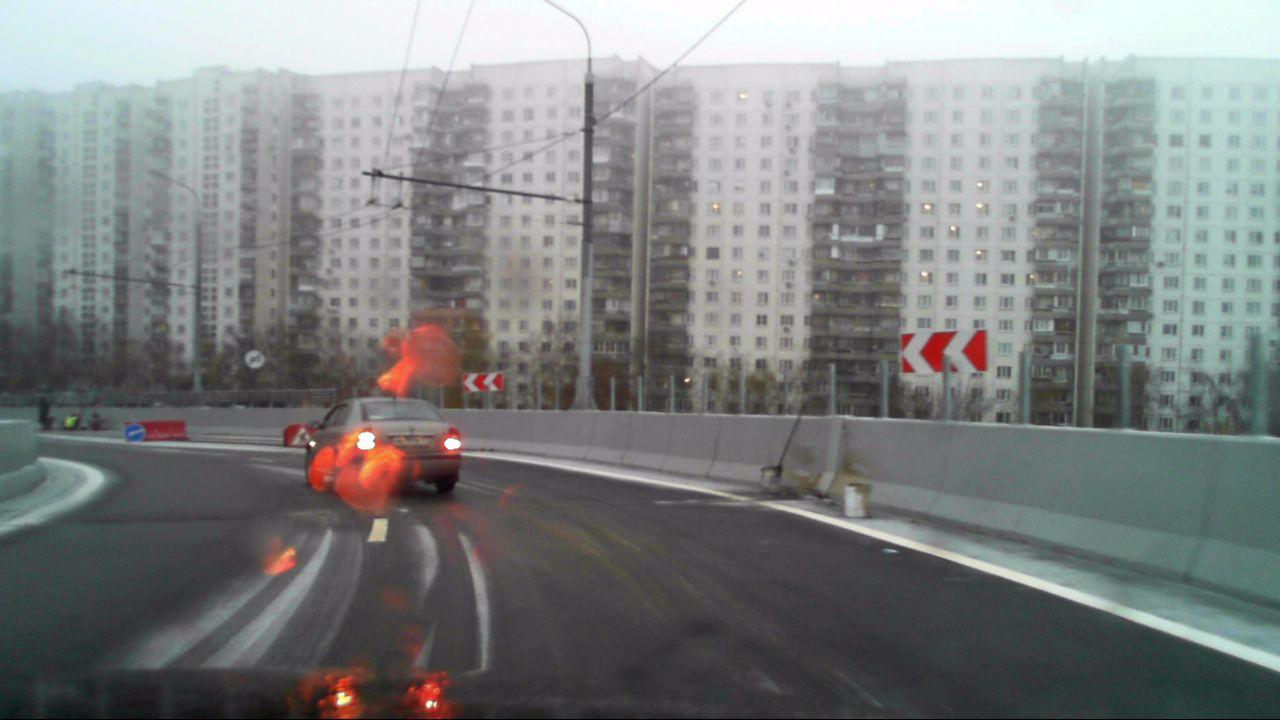road_sign: (899, 326, 984, 373), (463, 370, 504, 392), (125, 424, 145, 442)
